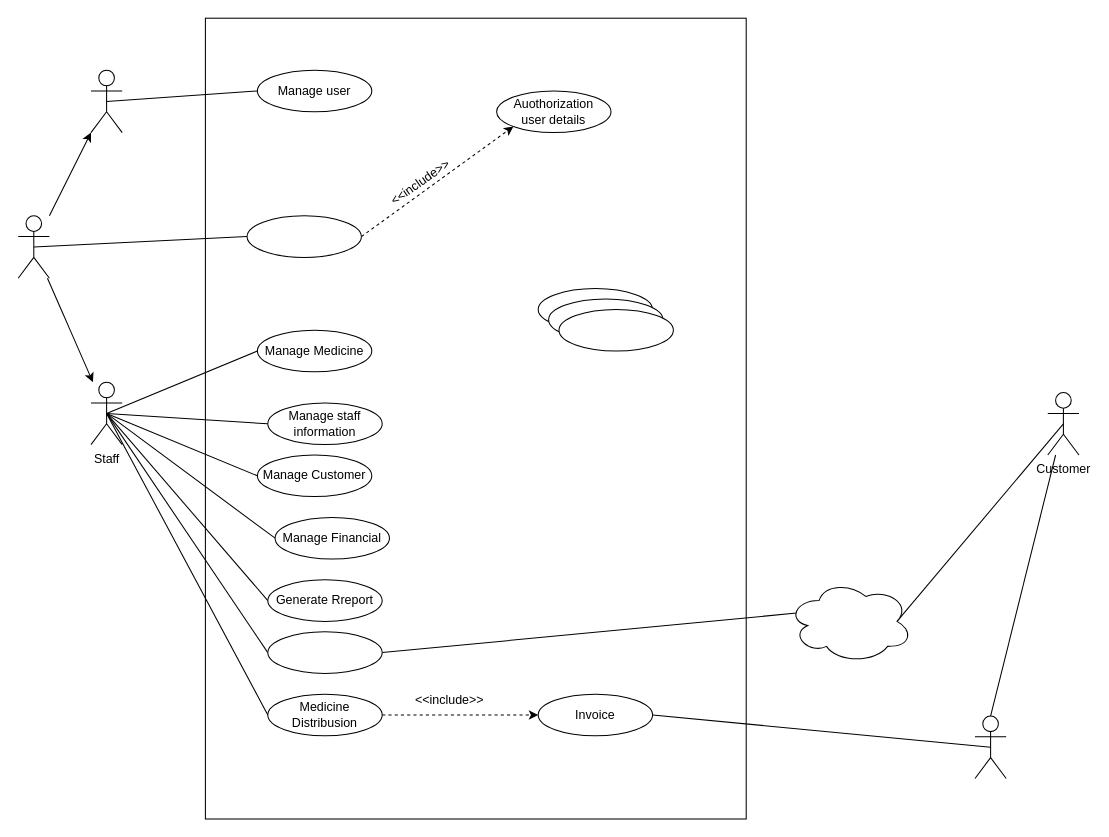
The diagram is 1109 pixels wide and 837 high, and some of its shapes have lost their labels. Each missing label, with the centre of its shape:
"Admin" belongs at point (106, 101).
"delivery person" belongs at point (990, 746).
"E mail Server" belongs at point (850, 621).
"Formal Communication" belongs at point (324, 652).
"Login" belongs at point (303, 236).
"User" belongs at point (33, 246).
